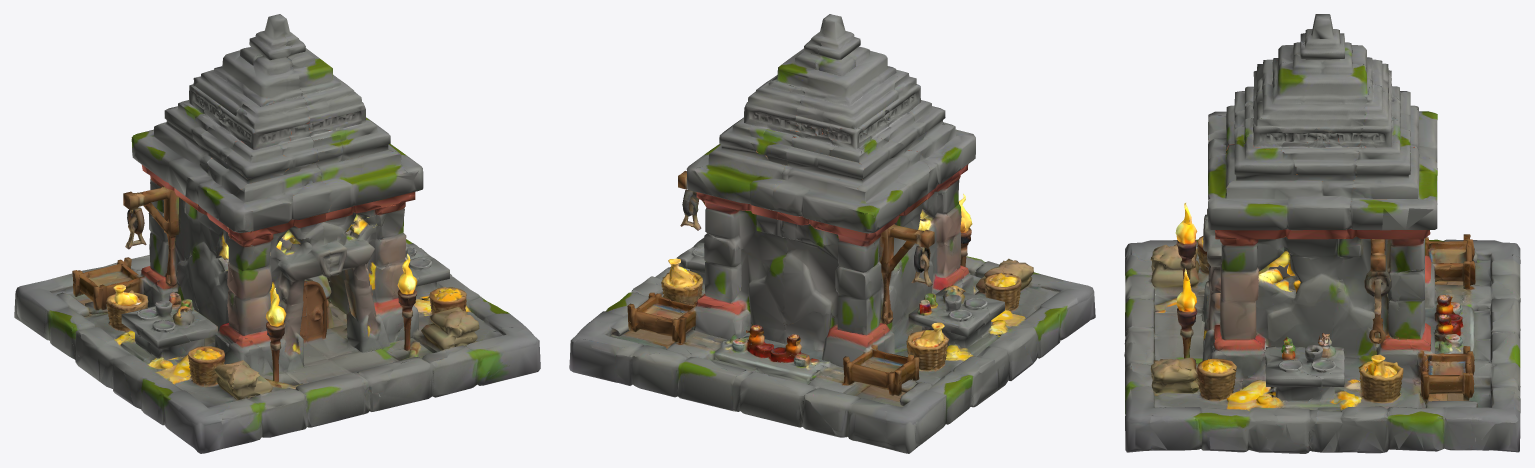
The model's file is tambang_mobile.glb.
3 renders of one model, left to right at view 1: azimuth 30°, elevation 25°; view 2: azimuth 150°, elevation 25°; view 3: azimuth 270°, elevation 25°, orthographic. The views are drawn at different scales.
Parts seen in each view (by area): view 1: Mesh_0; view 2: Mesh_0; view 3: Mesh_0.
Part boxes in pixels (box(x1,y1,x2,y2)): Mesh_0: box(14, 14, 540, 453); Mesh_0: box(569, 14, 1095, 453); Mesh_0: box(1124, 14, 1520, 453).
Bounding box in the file's own units: 1.9 × 1.73 × 1.78.
1 material, 1 textured.
